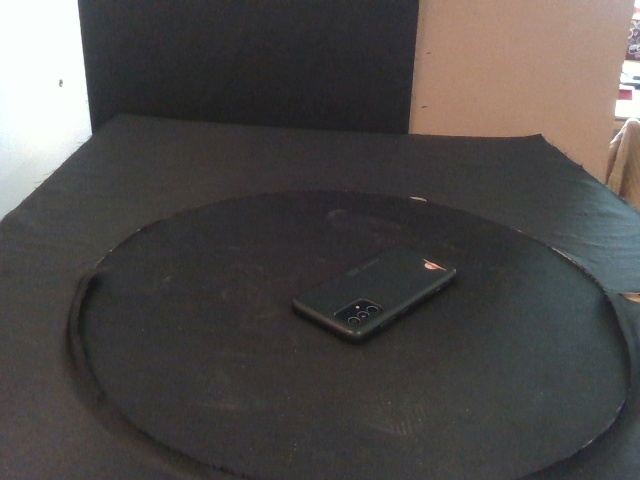phone: (291, 245, 457, 341)
